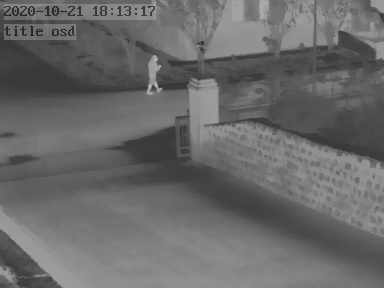person: (146, 51, 161, 93)
